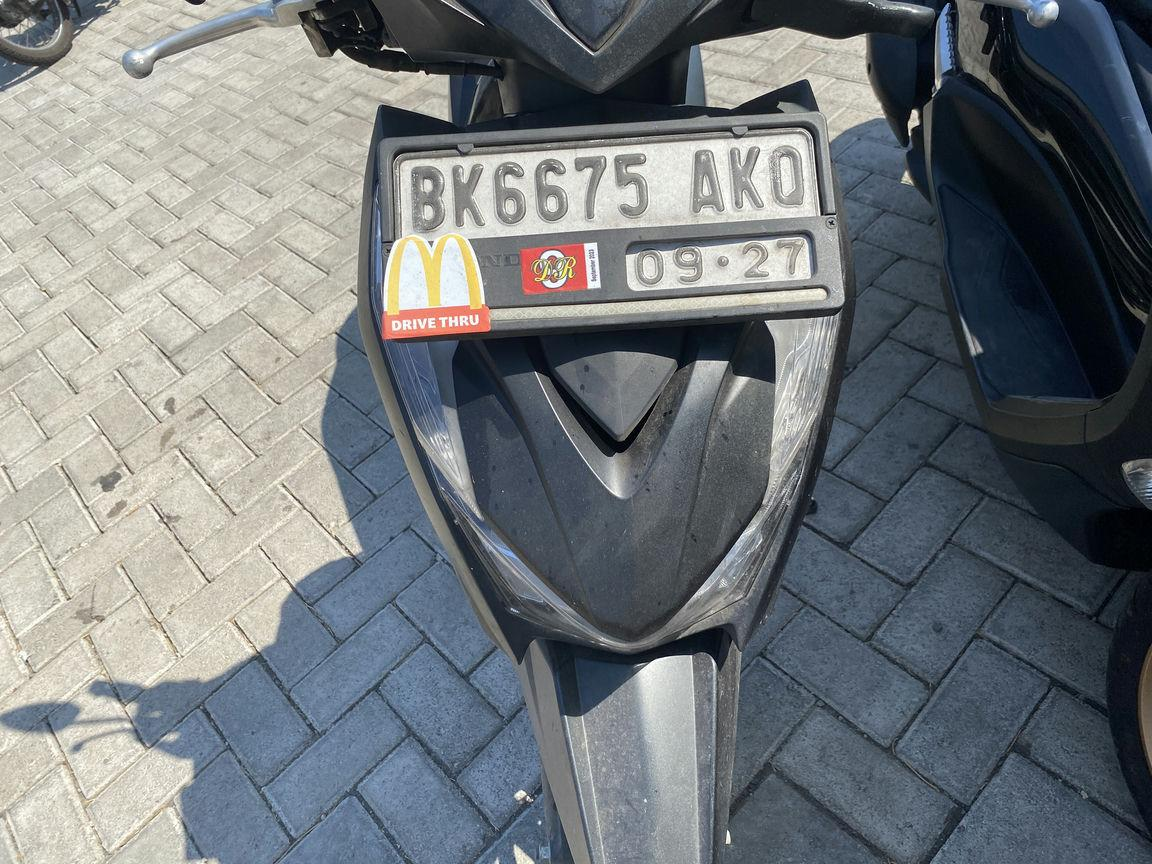plat: (380, 115, 844, 340)
